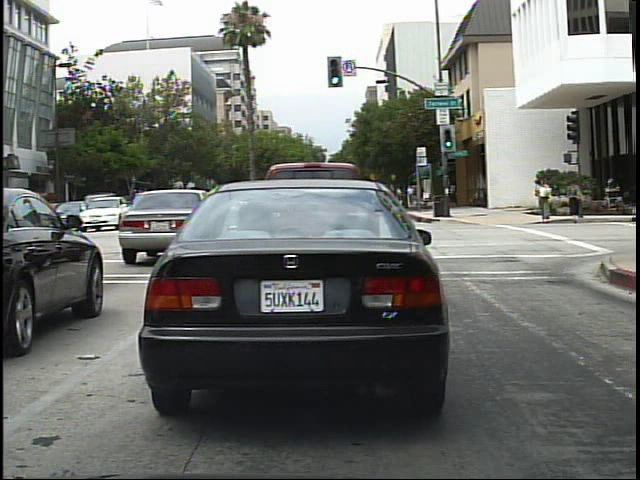person: (533, 173, 558, 227), (563, 174, 588, 226), (402, 180, 419, 212)
